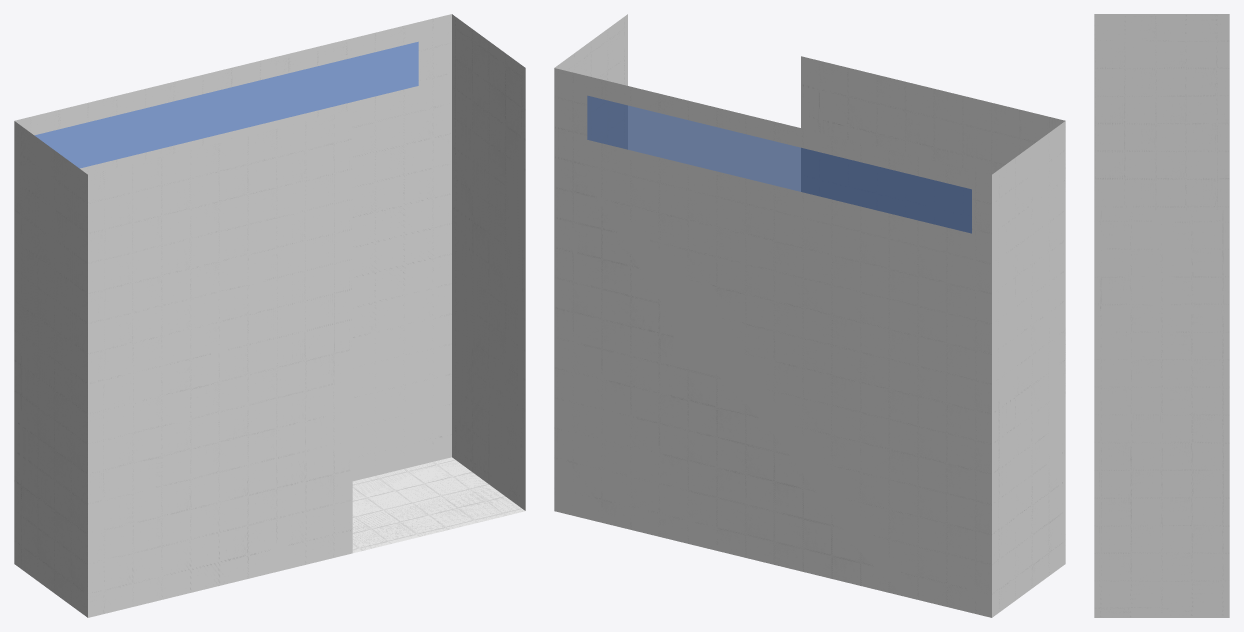
The model's file is CUA015.obj.
The picture shows the model from 3 angles, left to right: view 1: azimuth 30°, elevation 25°; view 2: azimuth 150°, elevation 25°; view 3: azimuth 270°, elevation 25°; orthographic projection. The views are drawn at different scales.
Visible parts, largest first — view 1: Mesh1 Group1 Model; view 2: Mesh1 Group1 Model; view 3: Mesh1 Group1 Model.
Part boxes in pixels (x1,y1,x2,y2): Mesh1 Group1 Model: [14, 14, 525, 617]; Mesh1 Group1 Model: [554, 14, 1065, 617]; Mesh1 Group1 Model: [1094, 14, 1229, 617].
Bounding box in the file's own units: 3.09 × 2.99 × 0.9031.
Materials: 4 (1 with a texture image).
